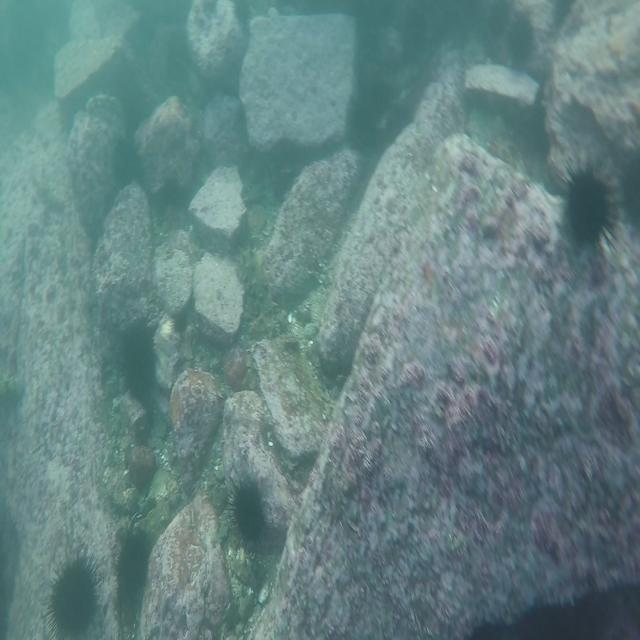echinus: (554, 152, 618, 252), (42, 554, 103, 640), (223, 460, 274, 550), (115, 314, 162, 411), (110, 523, 152, 605)
holothurian: (235, 245, 281, 340)
